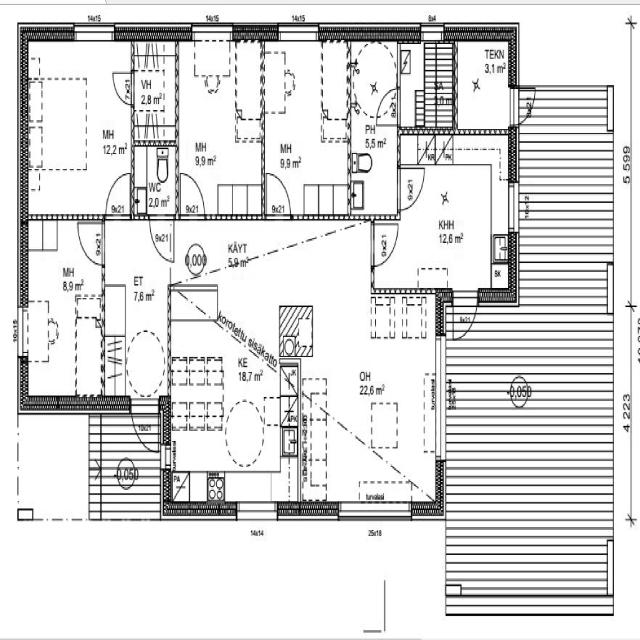door: (348, 40, 401, 148), (129, 396, 159, 453), (396, 162, 426, 213), (451, 289, 480, 341), (103, 168, 133, 218), (76, 217, 105, 267), (178, 166, 206, 216), (264, 167, 292, 217), (371, 218, 399, 268), (148, 212, 175, 263), (374, 85, 400, 125), (110, 69, 135, 105), (516, 86, 537, 126)
window: (430, 336, 444, 463), (346, 502, 416, 521), (232, 498, 279, 522), (276, 21, 321, 45), (72, 21, 115, 45), (194, 24, 232, 44), (16, 302, 29, 360), (507, 179, 518, 233), (421, 22, 444, 40)
zone: (310, 288, 438, 507), (27, 41, 132, 219), (262, 38, 351, 216), (22, 216, 104, 399), (177, 39, 262, 212), (404, 157, 501, 286), (454, 40, 511, 136), (398, 38, 456, 130), (348, 40, 399, 144), (132, 55, 178, 141), (348, 143, 399, 218), (132, 141, 179, 216), (371, 218, 400, 268)
